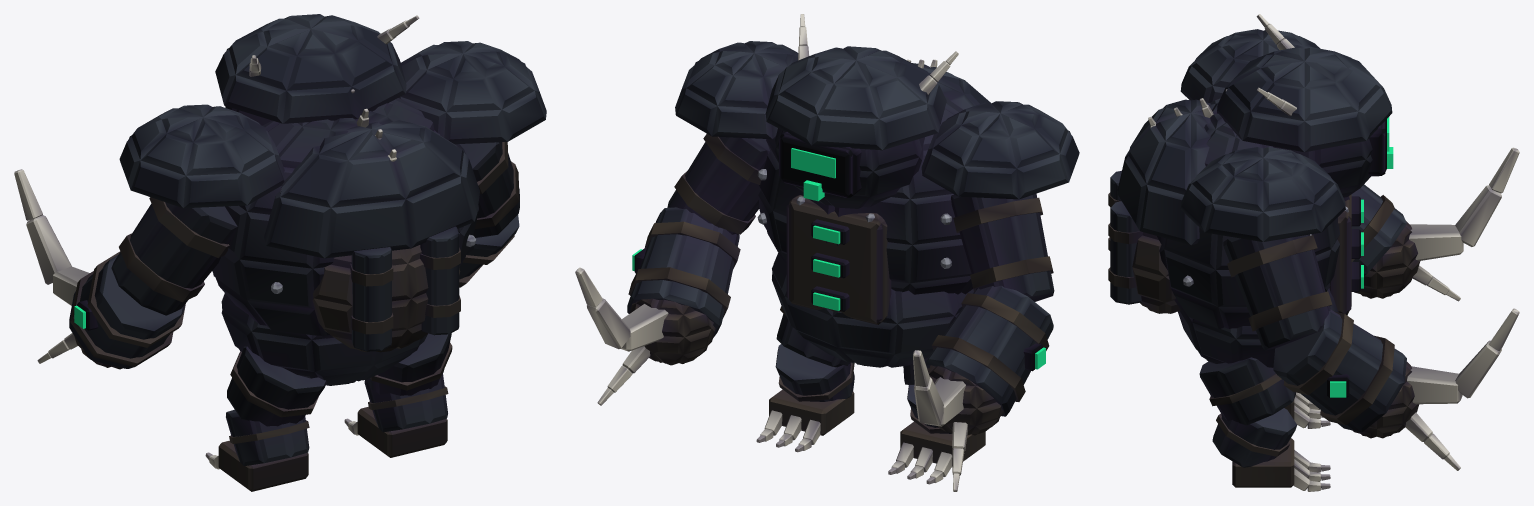
File: Kobold.glb
3 views of the same model, side by side, from view 1: azimuth 30°, elevation 25°; view 2: azimuth 150°, elevation 25°; view 3: azimuth 270°, elevation 25° (orthographic). The views are drawn at different scales.
Visible parts, largest first — view 1: Body__Tex, Head__Tex, ArmL2__Tex, ArmL1__Tex, LegL2__Tex, LegR2__Tex, LegL1__Tex, ArmR1__Tex, LegR1__Tex, ArmR2__Tex; view 2: Body__Tex, Head__Tex, ArmR2__Tex, ArmL2__Tex, ArmL1__Tex, ArmR1__Tex, LegR2__Tex, LegL2__Tex, Head__Glow, LegR1__Tex, Body__Glow; view 3: Body__Tex, Head__Tex, ArmR2__Tex, ArmL2__Tex, ArmR1__Tex, LegR2__Tex, LegR1__Tex, LegL2__Tex.
Part boxes in pixels (<box>): Body__Tex: <box>119,41,546,385</box>; Head__Tex: <box>215,14,419,125</box>; ArmL2__Tex: <box>14,169,185,369</box>; ArmL1__Tex: <box>111,197,237,315</box>; LegL2__Tex: <box>205,409,309,491</box>; LegR2__Tex: <box>344,373,448,457</box>; LegL1__Tex: <box>227,346,326,426</box>; ArmR1__Tex: <box>459,142,519,237</box>; LegR1__Tex: <box>366,333,452,395</box>; ArmR2__Tex: <box>459,215,519,287</box>; Body__Tex: <box>675,41,1079,367</box>; Head__Tex: <box>765,14,958,208</box>; ArmR2__Tex: <box>575,207,740,405</box>; ArmL2__Tex: <box>913,285,1053,491</box>; ArmL1__Tex: <box>951,193,1054,301</box>; ArmR1__Tex: <box>667,134,770,234</box>; LegR2__Tex: <box>756,344,854,452</box>; LegL2__Tex: <box>888,385,985,484</box>; Head__Glow: <box>791,148,835,201</box>; LegR1__Tex: <box>776,306,850,367</box>; Body__Glow: <box>813,225,840,310</box>; Body__Tex: <box>1108,29,1360,367</box>; Head__Tex: <box>1217,14,1392,197</box>; ArmR2__Tex: <box>1273,308,1519,470</box>; ArmL2__Tex: <box>1351,147,1519,301</box>; ArmR1__Tex: <box>1223,234,1332,350</box>; LegR2__Tex: <box>1212,408,1330,491</box>; LegR1__Tex: <box>1199,357,1295,425</box>; LegL2__Tex: <box>1284,392,1330,428</box>.
Size of the model in its own units: 4.44 by 4.26 by 3.98.
